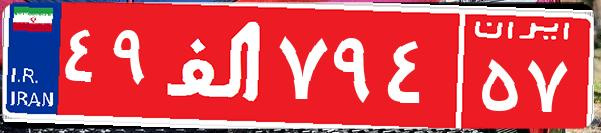4: (385, 28, 445, 110), (57, 26, 110, 107)
5: (475, 38, 525, 113)
7: (273, 28, 330, 110), (525, 38, 570, 115)
9: (330, 28, 385, 110), (110, 28, 158, 105)
الف: (158, 15, 273, 115)
